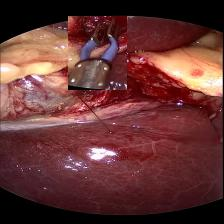Bipolar: (68, 15, 127, 89)
